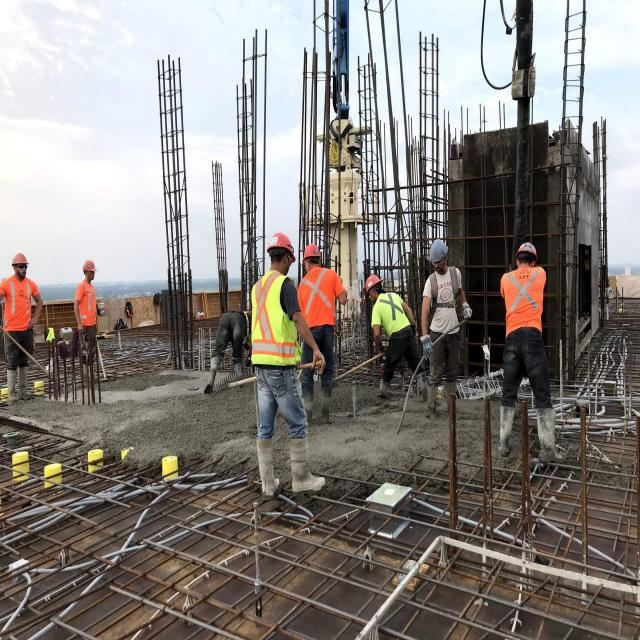Reflective-Jacket: (247, 269, 300, 368), (499, 266, 547, 339), (372, 291, 413, 338), (2, 276, 34, 331), (76, 280, 97, 326)
Safety-Helmet: (265, 229, 298, 259), (427, 236, 452, 264), (514, 238, 540, 260), (300, 241, 324, 262), (364, 272, 384, 294), (11, 251, 30, 267), (82, 258, 97, 272)
